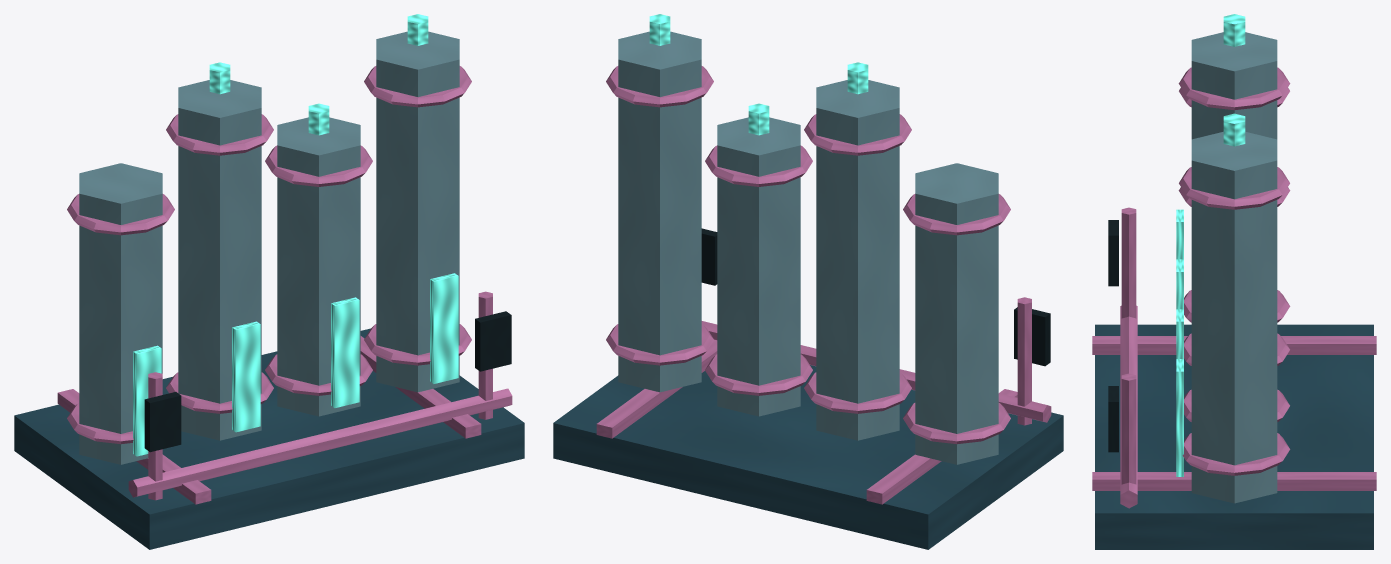
The model's file is atlas100-s062-a01.lod1.glb.
The picture shows the model from 3 angles, left to right: view 1: azimuth 30°, elevation 25°; view 2: azimuth 150°, elevation 25°; view 3: azimuth 270°, elevation 25°; orthographic projection. The views are drawn at different scales.
Parts seen in each view (by area): view 1: atlas100-s062-a01:part-000, atlas100-s062-a01:part-018, atlas100-s062-a01:part-008, atlas100-s062-a01:part-003, atlas100-s062-a01:part-013, atlas100-s062-a01:part-027, atlas100-s062-a01:part-017, atlas100-s062-a01:part-012, atlas100-s062-a01:part-022, atlas100-s062-a01:part-024, atlas100-s062-a01:part-026, atlas100-s062-a01:part-007 (+15 smaller); view 2: atlas100-s062-a01:part-000, atlas100-s062-a01:part-008, atlas100-s062-a01:part-018, atlas100-s062-a01:part-003, atlas100-s062-a01:part-013, atlas100-s062-a01:part-002, atlas100-s062-a01:part-023, atlas100-s062-a01:part-001, atlas100-s062-a01:part-005, atlas100-s062-a01:part-020, atlas100-s062-a01:part-004, atlas100-s062-a01:part-015 (+10 smaller); view 3: atlas100-s062-a01:part-000, atlas100-s062-a01:part-018, atlas100-s062-a01:part-008, atlas100-s062-a01:part-002, atlas100-s062-a01:part-001, atlas100-s062-a01:part-027, atlas100-s062-a01:part-023, atlas100-s062-a01:part-025, atlas100-s062-a01:part-010, atlas100-s062-a01:part-020, atlas100-s062-a01:part-019, atlas100-s062-a01:part-022 (+10 smaller).
Part boxes in pixels (x1,y1,x2,y2): atlas100-s062-a01:part-000: [14, 328, 524, 549]; atlas100-s062-a01:part-018: [376, 31, 459, 392]; atlas100-s062-a01:part-008: [178, 80, 261, 440]; atlas100-s062-a01:part-003: [79, 163, 162, 464]; atlas100-s062-a01:part-013: [277, 117, 360, 416]; atlas100-s062-a01:part-027: [128, 388, 512, 497]; atlas100-s062-a01:part-017: [331, 297, 359, 407]; atlas100-s062-a01:part-012: [232, 321, 260, 432]; atlas100-s062-a01:part-022: [430, 273, 458, 383]; atlas100-s062-a01:part-024: [144, 392, 181, 452]; atlas100-s062-a01:part-026: [475, 311, 511, 371]; atlas100-s062-a01:part-007: [133, 345, 161, 456]; atlas100-s062-a01:part-000: [553, 365, 1063, 549]; atlas100-s062-a01:part-008: [816, 80, 899, 440]; atlas100-s062-a01:part-018: [618, 31, 701, 392]; atlas100-s062-a01:part-003: [915, 163, 998, 464]; atlas100-s062-a01:part-013: [717, 117, 800, 416]; atlas100-s062-a01:part-002: [596, 339, 717, 438]; atlas100-s062-a01:part-023: [1017, 297, 1031, 425]; atlas100-s062-a01:part-001: [866, 389, 1017, 504]; atlas100-s062-a01:part-005: [903, 194, 1010, 235]; atlas100-s062-a01:part-020: [606, 66, 713, 107]; atlas100-s062-a01:part-004: [903, 403, 1010, 444]; atlas100-s062-a01:part-015: [705, 145, 812, 186]; atlas100-s062-a01:part-000: [1095, 324, 1373, 549]; atlas100-s062-a01:part-018: [1191, 131, 1277, 503]; atlas100-s062-a01:part-008: [1191, 32, 1277, 139]; atlas100-s062-a01:part-002: [1092, 472, 1376, 490]; atlas100-s062-a01:part-001: [1092, 336, 1376, 354]; atlas100-s062-a01:part-027: [1120, 305, 1137, 508]; atlas100-s062-a01:part-023: [1121, 207, 1136, 318]; atlas100-s062-a01:part-025: [1121, 373, 1136, 484]; atlas100-s062-a01:part-010: [1178, 67, 1290, 110]; atlas100-s062-a01:part-020: [1179, 167, 1289, 209]; atlas100-s062-a01:part-019: [1182, 433, 1290, 475]; atlas100-s062-a01:part-022: [1176, 359, 1183, 476].
Size of the model in its own units: 3 by 2.93 by 1.84.
Materials: 5 (5 with a texture image).
